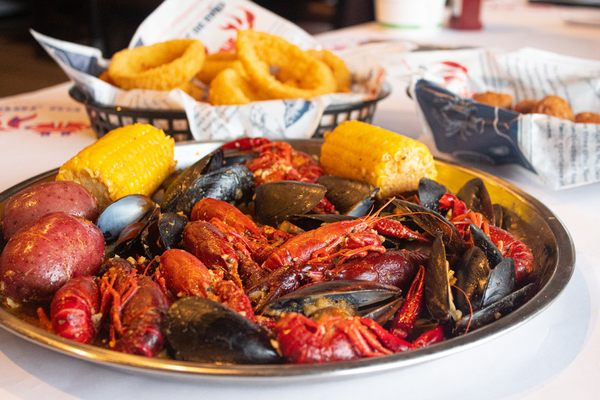sushi: (14, 160, 574, 386)
